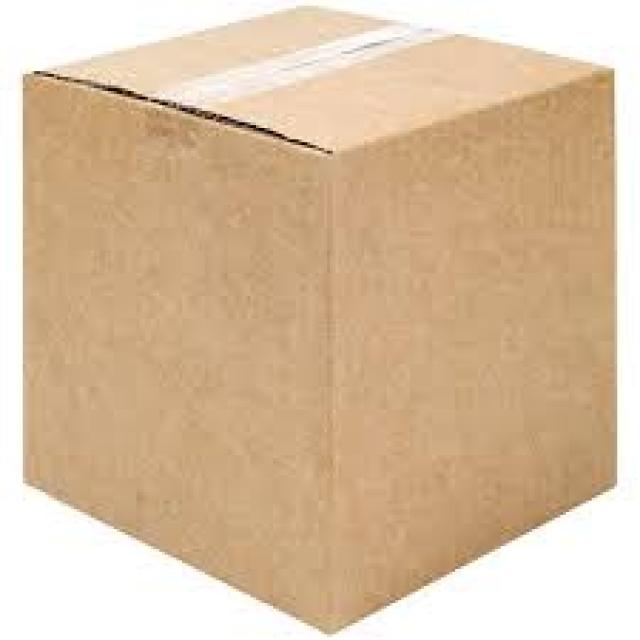box: (22, 6, 617, 640)
